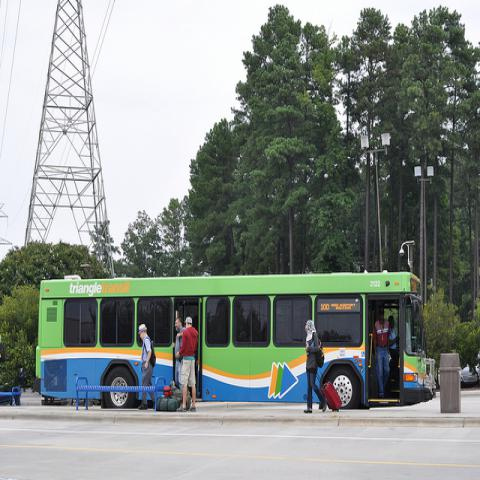bus: (34, 274, 430, 407)
